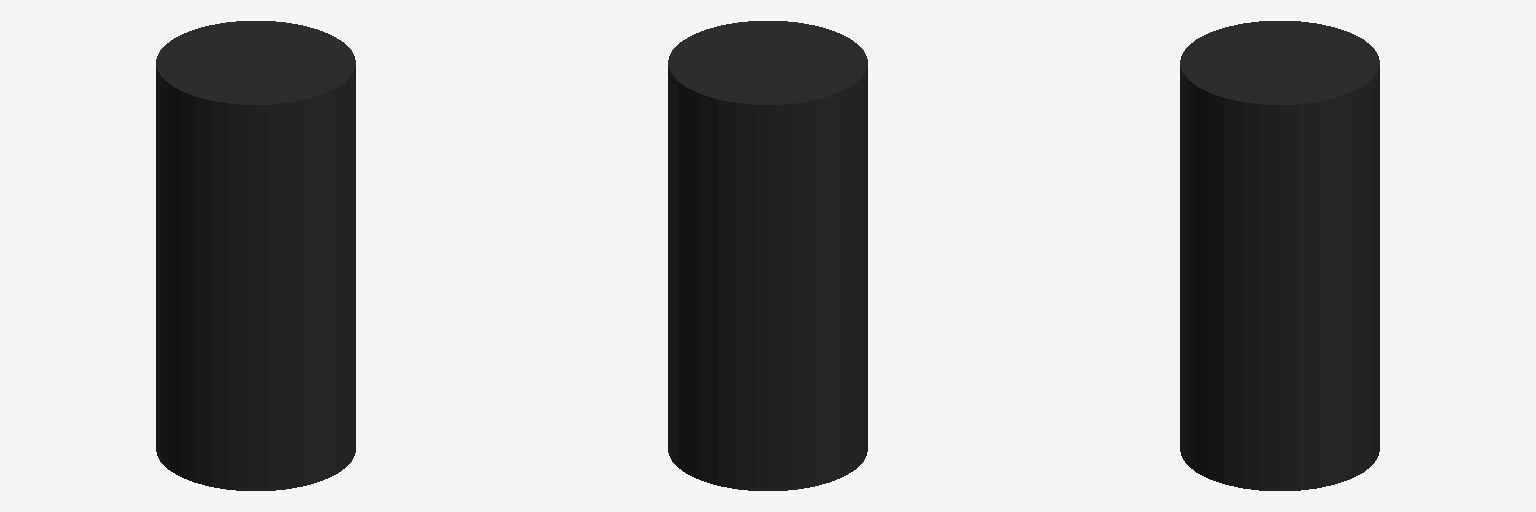
Rendered from tip.obj.
3 renders of one model, left to right at view 1: azimuth 30°, elevation 25°; view 2: azimuth 150°, elevation 25°; view 3: azimuth 270°, elevation 25°, orthographic.
Parts seen in each view (by area): view 1: Cylinder_Cylinder.005; view 2: Cylinder_Cylinder.005; view 3: Cylinder_Cylinder.005.
Boxes of the visible parts, x1=… form: Cylinder_Cylinder.005: x1=156, y1=21, x2=355, y2=490; Cylinder_Cylinder.005: x1=668, y1=21, x2=867, y2=490; Cylinder_Cylinder.005: x1=1180, y1=21, x2=1379, y2=490.
Size of the model in its own units: 0.0094 by 0.02 by 0.0094.